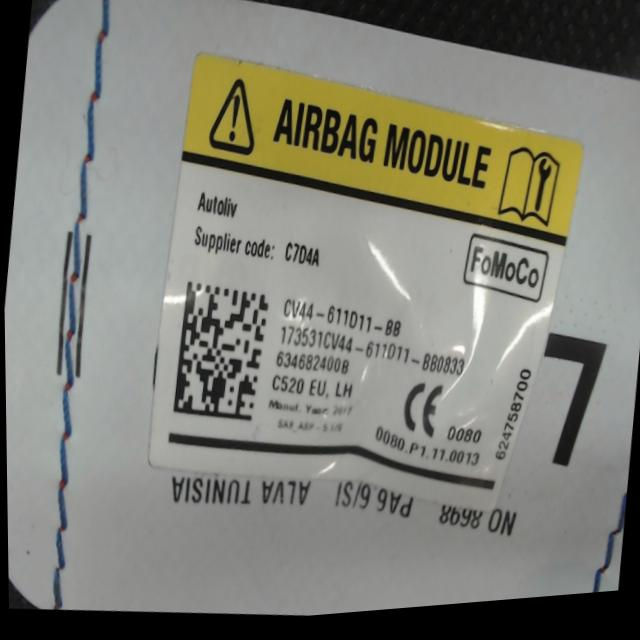datamatrix: (170, 279, 272, 432)
